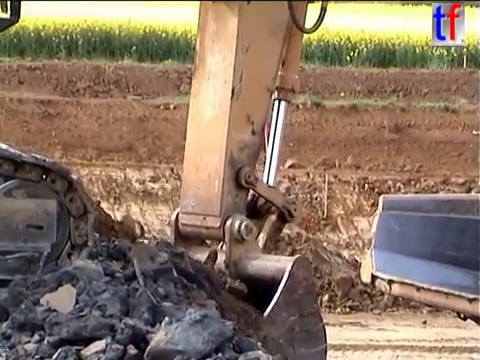excavator: (1, 1, 333, 360)
truck: (356, 189, 480, 330)
